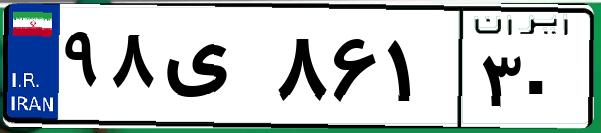0: (525, 38, 570, 115)
1: (385, 28, 445, 110)
3: (475, 38, 525, 113)
6: (330, 28, 385, 110)
8: (270, 28, 330, 110), (110, 28, 158, 98)
9: (57, 26, 110, 100)
ی: (158, 20, 270, 120)
